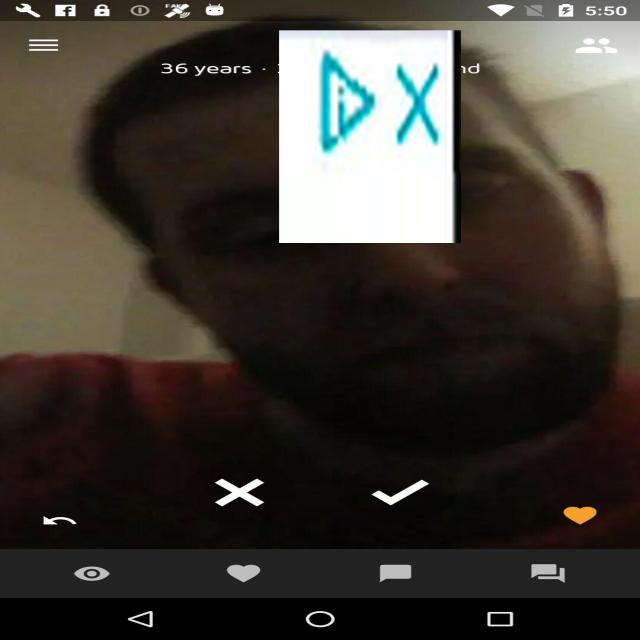sneaking: (279, 30, 461, 243)
